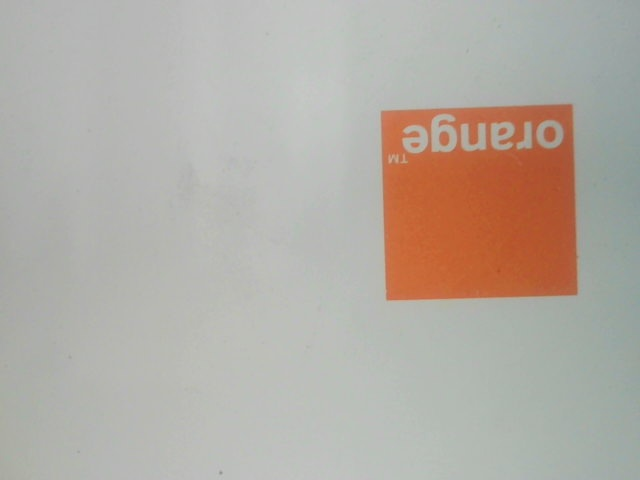AR_Orange: (372, 100, 589, 308)
